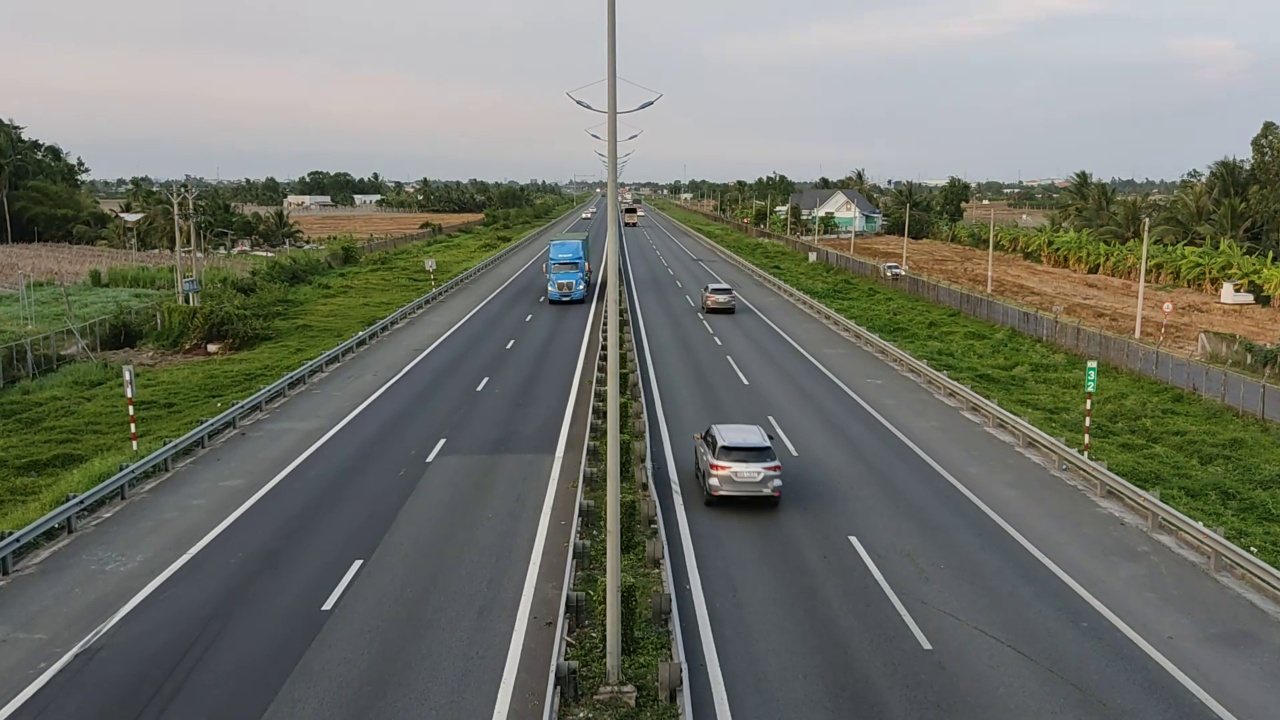car: (693, 422, 783, 505), (699, 283, 737, 313)
truck: (538, 231, 594, 306)
